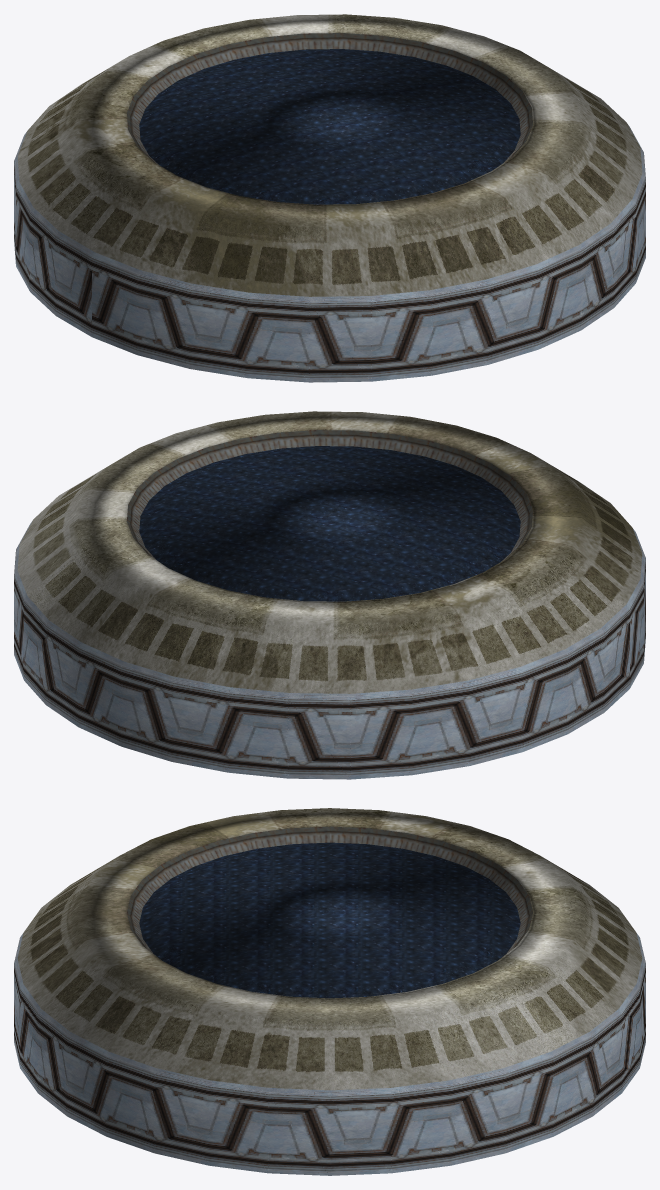
The model's file is Hologram Emitter.FBX.
The picture shows the model from 3 angles, top to bottom: view 1: azimuth 30°, elevation 25°; view 2: azimuth 150°, elevation 25°; view 3: azimuth 270°, elevation 25°; orthographic projection.
Visible parts, largest first — view 1: Side, Emitter; view 2: Side, Emitter; view 3: Side, Emitter.
Part boxes in pixels (x1,y1,x2,y2): Side: (14,14,645,382); Emitter: (139,49,520,204); Side: (14,411,645,779); Emitter: (139,446,520,601); Side: (14,808,645,1175); Emitter: (139,842,520,998).
Size of the model in its own units: 10.53 by 2.45 by 10.53.
